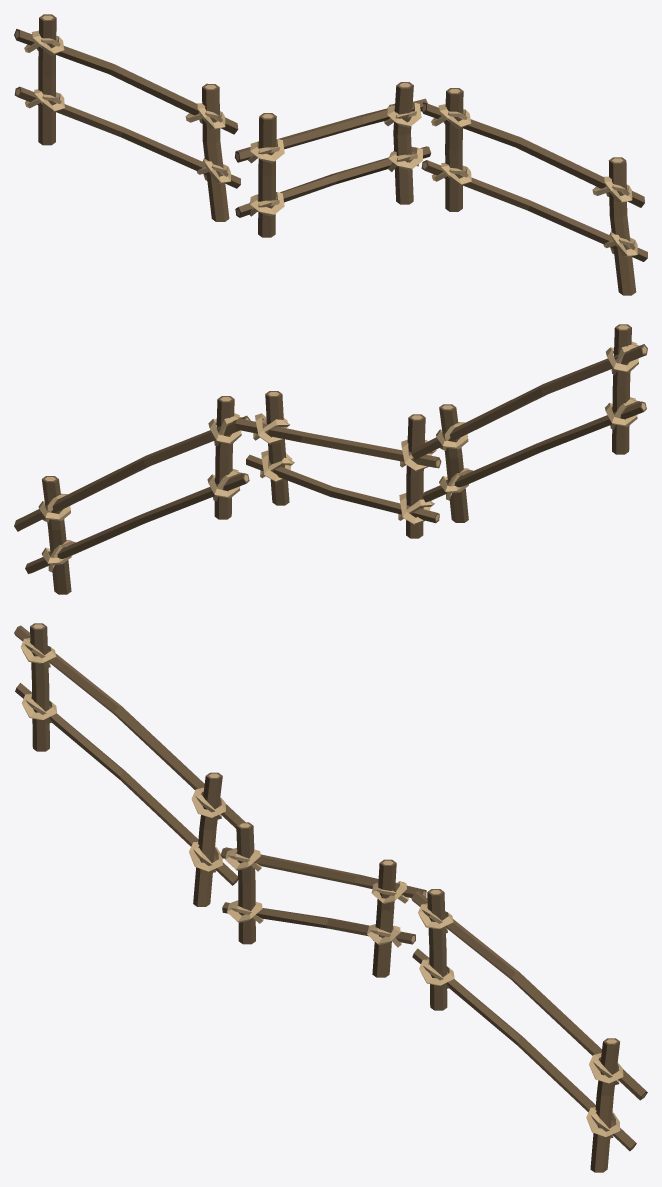
Rendered from rpgpp_ag_wall_platform_stairs_01c_4m_handrail_02.fbx.
The picture shows the model from 3 angles, top to bottom: view 1: azimuth 30°, elevation 25°; view 2: azimuth 150°, elevation 25°; view 3: azimuth 330°, elevation 25°; orthographic projection. The views are drawn at different scales.
Parts seen in each view (by area): view 1: rpgpp_ag_wall_platform_stairs_01c_4m_handrail_02; view 2: rpgpp_ag_wall_platform_stairs_01c_4m_handrail_02; view 3: rpgpp_ag_wall_platform_stairs_01c_4m_handrail_02.
Boxes of the visible parts, x1=… form: rpgpp_ag_wall_platform_stairs_01c_4m_handrail_02: x1=14, y1=14, x2=647, y2=295; rpgpp_ag_wall_platform_stairs_01c_4m_handrail_02: x1=14, y1=324, x2=647, y2=594; rpgpp_ag_wall_platform_stairs_01c_4m_handrail_02: x1=14, y1=623, x2=647, y2=1172.
Bounding box in the file's own units: 7.83 × 4.85 × 0.6836.
